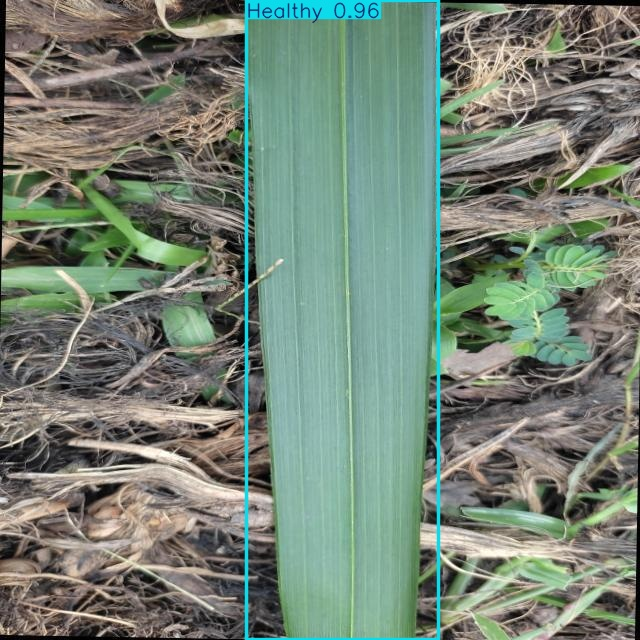Healthy: (246, 0, 438, 640)
